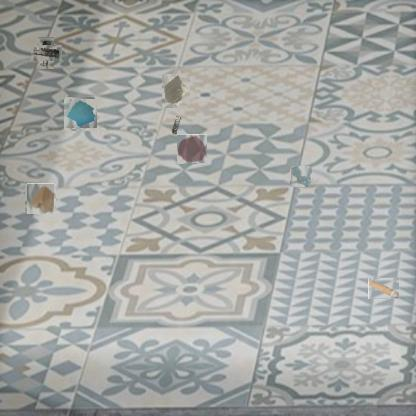dirty: (64, 98, 96, 130), (162, 74, 190, 108), (26, 184, 55, 213), (368, 277, 399, 299), (34, 41, 58, 65), (170, 114, 182, 134)
liquid: (178, 134, 207, 164), (291, 166, 312, 186)
